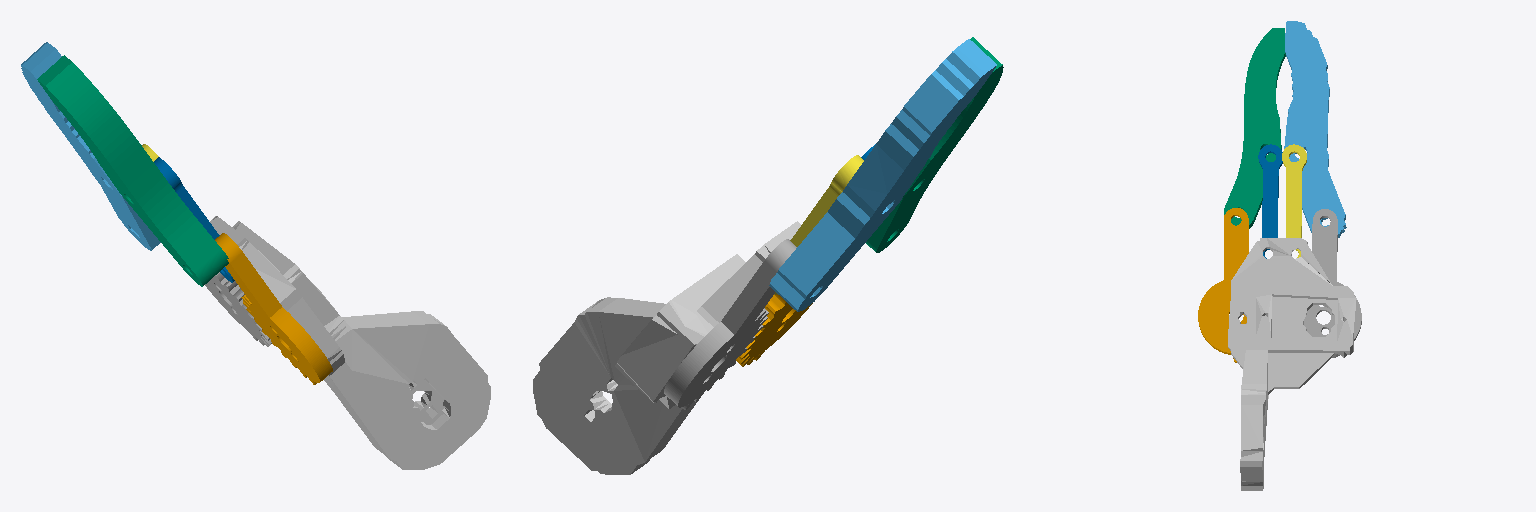
--- Render facts (derived) ---
The picture shows the robot from 3 angles, left to right: view 1: azimuth 30°, elevation 25°; view 2: azimuth 150°, elevation 25°; view 3: azimuth 270°, elevation 25°; orthographic projection.
Robot: tangs — 13 links, 12 joints (11 revolute, 1 fixed); root link world; default pose: every joint at zero.
Visible links, largest first — view 1: palm_link, r_finger_link, r_moment_arm_link, l_finger_link, l_moment_arm_link, r_truss_arm_link; view 2: palm_link, l_finger_link, l_moment_arm_link, r_finger_link, r_moment_arm_link, l_truss_arm_link; view 3: palm_link, l_finger_link, r_finger_link, r_moment_arm_link, l_moment_arm_link, l_truss_arm_link, r_truss_arm_link.
Link boxes in pixels (<box>): palm_link: <box>210,216,490,469</box>; r_finger_link: <box>37,55,228,286</box>; r_moment_arm_link: <box>215,233,332,384</box>; l_finger_link: <box>21,42,160,250</box>; l_moment_arm_link: <box>205,272,271,346</box>; r_truss_arm_link: <box>154,157,234,282</box>; palm_link: <box>533,221,800,474</box>; l_finger_link: <box>769,39,996,311</box>; l_moment_arm_link: <box>664,239,796,409</box>; r_finger_link: <box>866,37,1003,252</box>; r_moment_arm_link: <box>736,294,812,366</box>; l_truss_arm_link: <box>775,155,863,294</box>; palm_link: <box>1228,238,1356,490</box>; l_finger_link: <box>1284,21,1346,237</box>; r_finger_link: <box>1224,28,1285,228</box>; r_moment_arm_link: <box>1198,208,1248,362</box>; l_moment_arm_link: <box>1304,209,1361,340</box>; l_truss_arm_link: <box>1282,144,1306,257</box>; r_truss_arm_link: <box>1258,144,1282,258</box>.
Size in the robot's own frame: 0.1138 by 0.0521 by 0.1221 metres.
Meshes: 11 distinct files referenced, 7 mesh visuals loaded (6 binary STL); not drawn: 5 (reference not matched to a file when rendering).

URDF robot description (tangs):
<?xml version="1.0" encoding="utf-8" ?>
<!-- <include file="$(find tangs_description)/urdf/tangs.gazebo"/> -->
<!-- Solução para o problema do braço ficar tremendo no início -->
<!-- https://robotics.stackexchange.com/questions/58995/manipulator-shakes-wobbles/58996#58996 -->
<robot name="tangs">
    <link name="world" />
    <joint name="base_joint" type="fixed">
        <parent link="world" />
        <child link="link_base" />
        <origin rpy="0 0 0" xyz="0.0 0 0.0" />
    </joint>
    <link name="link_base">
        <visual>
            <origin rpy="0 0 0" xyz="0 0 0" />
            <geometry>
                <mesh filename="package://tangs_description/models/thangs3/link_base.stl" />
            </geometry>
            <material name="Gazebo/Grey" />
        </visual>
        <inertial>
            <origin rpy="0 0 0" xyz="0 0 -0.30" />
            <mass value="0.620" />
            <inertia ixx="0.010581333333333333" ixy="0" ixz="0" iyy="0.010581333333333333" iyz="0" izz="0.010581333333333333" />
        </inertial>
        <collision>
            <origin rpy="0 0 0" xyz="0 0 0.03" />
            <geometry>
                <!-- <mesh filename="package://tangs_description/models/thangs3/link_base.stl"/> -->
                <box size="0.12 0.12 0.06" />
            </geometry>
        </collision>
    </link>
    <link name="link_body">
        <visual>
            <origin rpy="0 0 0" xyz="0 0 0" />
            <geometry>
                <mesh filename="package://tangs_description/models/thangs3/link_body.stl" />
            </geometry>
            <material name="Gazebo/Grey" />
        </visual>
        <collision>
            <origin rpy="0 0 0" xyz="0 0 0" />
            <geometry>
                <!-- <cylinder radius="0.050" length="0.067" /> -->
                <mesh filename="package://tangs_description/models/thangs3/link_body.stl" />
            </geometry>
        </collision>
        <inertial>
            <origin rpy="0 0 0" xyz="-6.44e-03 1.36e-03 1.73e-02" />
            <mass value="8.50e-02" />
            <inertia ixx="0.002" ixy="0.0" ixz="0.0" iyy="0.02" iyz="0.0" izz="0.002" />
        </inertial>
    </link>
    <joint name="waist" type="revolute">
        <origin rpy="0 0 1.55" xyz="0 0 5.60e-02" />
        <parent link="link_base" />
        <child link="link_body" />
        <axis xyz="0 0 1" />
        <limit effort="300" lower="-1.570796327" upper="1.570796327" velocity="3" />
        <joint_properties friction="0.0" />
    </joint>
    <transmission name="tran1">
        <type>transmission_interface/SimpleTransmission</type>
        <joint name="waist">
            <hardwareInterface>hardware_interface/PositionJointInterface</hardwareInterface>
        </joint>
        <actuator name="motor1">
            <hardwareInterface>hardware_interface/PositionJointInterface</hardwareInterface>
            <mechanicalReduction>1</mechanicalReduction>
        </actuator>
    </transmission>
    <link name="link_arm">
        <visual>
            <origin rpy="3.141592654 0 -1.570796327" xyz="-5.77e-02 6.02e-04 0" />
            <geometry>
                <mesh filename="package://tangs_description/models/thangs3/link_arm.stl" />
            </geometry>
            <material name="Gazebo/Grey" />
        </visual>
        <collision>
            <origin rpy="3.141592654 0 -1.570796327" xyz="-5.77e-02 6.02e-04 0" />
            <geometry>
                <mesh filename="package://tangs_description/models/thangs3/link_arm.stl" />
            </geometry>
        </collision>
        <inertial>
            <origin rpy="0 0 0" xyz="-5.92e-02 0 -7.79e-03" />
            <mass value="8.50e-03" />
            <inertia ixx="0.002" ixy="0.0" ixz="0.0" iyy="0.02" iyz="0.0" izz="0.002" />
        </inertial>
    </link>
    <joint name="shoulder" type="revolute">
        <origin rpy="1.570796327 1.570796327 -1.570796327" xyz="-4.00e-03 1.40e-02 4.03e-02" />
        <parent link="link_body" />
        <child link="link_arm" />
        <axis xyz="0 0 1" />
        <limit effort="200" lower="-1.570796327" upper="1.570796327" velocity="3" />
        <joint_properties friction="0.0" />
    </joint>
    <transmission name="tran2">
        <type>transmission_interface/SimpleTransmission</type>
        <joint name="shoulder">
            <hardwareInterface>hardware_interface/PositionJointInterface</hardwareInterface>
        </joint>
        <actuator name="motor2">
            <hardwareInterface>hardware_interface/PositionJointInterface</hardwareInterface>
            <mechanicalReduction>1</mechanicalReduction>
        </actuator>
    </transmission>
    <link name="link_forearm">
        <visual>
            <origin rpy="-3.141592654 0 0" xyz="0 -3.22e-02 6.00e-03" />
            <geometry>
                <mesh filename="package://tangs_description/models/thangs3/link_forearm.stl" />
            </geometry>
            <material name="Gazebo/Grey" />
        </visual>
        <collision>
            <origin rpy="-3.141592654 0 0" xyz="0 -3.22e-02 6.00e-03" />
            <geometry>
                <mesh filename="package://tangs_description/models/thangs3/link_forearm.stl" />
            </geometry>
        </collision>
        <inertial>
            <origin rpy="0 0 0" xyz="0 -3.93e-02 -7.40e-03" />
            <mass value="5.28e-03" />
            <inertia ixx="0.002" ixy="0.0" ixz="0.0" iyy="0.02" iyz="0.0" izz="0.002" />
        </inertial>
    </link>
    <joint name="elbow" type="revolute">
        <origin rpy="3.141592654 0 6.09e-01" xyz="-1.20e-01 0 0" />
        <parent link="link_arm" />
        <child link="link_forearm" />
        <axis xyz="0 0 1" />
        <limit effort="200" lower="-2.5" upper="0.6" velocity="3" />
        <joint_properties friction="0.0" />
    </joint>
    <transmission name="tran3">
        <type>transmission_interface/SimpleTransmission</type>
        <joint name="elbow">
            <hardwareInterface>hardware_interface/PositionJointInterface</hardwareInterface>
        </joint>
        <actuator name="motor3">
            <hardwareInterface>hardware_interface/PositionJointInterface</hardwareInterface>
            <mechanicalReduction>1</mechanicalReduction>
        </actuator>
    </transmission>
    <link name="link_hand">
        <visual>
            <origin rpy="-1.570796327 0 0" xyz="4.99e-03 -1.40e-02 -2.30e-02" />
            <geometry>
                <mesh filename="package://tangs_description/models/thangs3/link_hand.stl" />
            </geometry>
            <material name="Gazebo/Grey" />
        </visual>
        <collision>
            <origin rpy="-1.570796327 0 0" xyz="4.99e-03 -1.40e-02 -2.30e-02" />
            <geometry>
                <mesh filename="package://tangs_description/models/thangs3/link_hand.stl" />
            </geometry>
        </collision>
        <inertial>
            <origin rpy="0 0 0" xyz="5.03e-03 -6.14e-03 -1.77e-02" />
            <mass value="1.83e-03" />
            <inertia ixx="0.002" ixy="0.0" ixz="0.0" iyy="0.02" iyz="0.0" izz="0.002" />
        </inertial>
    </link>
    <joint name="wrist_yaw" type="revolute">
        <origin rpy="-1.570796327 0 0" xyz="-5.31e-03 -8.97e-02 -7.51e-03" />
        <parent link="link_forearm" />
        <child link="link_hand" />
        <axis xyz="0 0 1" />
        <limit effort="200" lower="-1.570796327" upper="1.570796327" velocity="3" />
        <joint_properties friction="0.0" />
    </joint>
    <transmission name="tran4">
        <type>transmission_interface/SimpleTransmission</type>
        <joint name="wrist_yaw">
            <hardwareInterface>hardware_interface/PositionJointInterface</hardwareInterface>
        </joint>
        <actuator name="motor4">
            <hardwareInterface>hardware_interface/PositionJointInterface</hardwareInterface>
            <mechanicalReduction>1</mechanicalReduction>
        </actuator>
    </transmission>
    <link name="palm_link">
        <collision>
            <origin rpy="3.141592654 -3.141592654 0.0" xyz="0.015 0.015 -0.018" />
            <geometry>
                <!-- <mesh filename="package://gripper_description/meshes/collision/RG3_Palm_col.stl"/> -->
                <mesh filename="package://gripper_description/meshes/visual/RG3_gripper_base_m_tk2.stl" />
            </geometry>
        </collision>
        <visual>
            <!-- <origin xyz="0.00 0.0015 -0.014" rpy="0.00 0.00 0.00"/> -->
            <origin rpy="3.141592654 -3.141592654 0.0" xyz="0.015 0.015 -0.018" />
            <geometry>
                <mesh filename="package://gripper_description/meshes/visual/RG3_gripper_base_m_tk2.stl" />
            </geometry>
            <material name="Gazebo/Grey" />
        </visual>
        <inertial>
            <origin rpy="0.00 0.00 0.00" xyz="-0.061902 0.000129 -0.000005" />
            <mass value="0.02" />
            <inertia ixx="0.002" ixy="0.0" ixz="0.0" iyy="0.02" iyz="0.0" izz="0.002" />
            <!-- <inertia ixx="0.000862" ixy="0.000000" ixz="0.000000"
                     iyy="0.002401" iyz="-0.000001"
                     izz="0.002620" /> -->
        </inertial>
    </link>
    <joint name="wrist_pitch" type="revolute">
        <origin rpy="0 -3.81e-02 0" xyz="0.00 -1.40e-02 -2.80e-02" />
        <parent link="link_hand" />
        <child link="palm_link" />
        <!-- Nome do link inicial do gripper-->
        <axis xyz="0 1 0" />
        <limit effort="200" lower="-3.141592654" upper="0" velocity="3" />
        <joint_properties friction="0.0" />
    </joint>
    <transmission name="tran5">
        <type>transmission_interface/SimpleTransmission</type>
        <joint name="wrist_pitch">
            <hardwareInterface>hardware_interface/PositionJointInterface</hardwareInterface>
        </joint>
        <actuator name="wrist_pitch_motor">
            <hardwareInterface>hardware_interface/PositionJointInterface</hardwareInterface>
            <mechanicalReduction>1</mechanicalReduction>
        </actuator>
    </transmission>
    <link name="l_moment_arm_link">
        <collision>
            <origin rpy="0.00 0.00 3.01415" xyz="0.01 -0.0021 0.0005" />
            <geometry>
                <!-- <mesh filename="package://gripper_description/meshes/collision/RG3_GearLeft_col.stl"/> -->
                <mesh filename="package://gripper_description/meshes/visual/RG3_gear_left_m.stl" />
            </geometry>
        </collision>
        <visual>
            <origin rpy="0.00 0.00 3.01415" xyz="0.01 -0.0021 0.0005" />
            <geometry>
                <mesh filename="package://gripper_description/meshes/visual/RG3_gear_left_m.stl" />
            </geometry>
        </visual>
        <inertial>
            <origin rpy="0.00 0.00 0.00" xyz="0.017004 0.006397 -0.010300" />
            <mass value="0.0060209" />
            <inertia ixx="0.002" ixy="0.0" ixz="0.0" iyy="0.02" iyz="0.0" izz="0.002" />
        </inertial>
    </link>
    <joint name="gripper_joint" type="revolute">
        <parent link="palm_link" />
        <child link="l_moment_arm_link" />
        <origin rpy="0 0 3.141592654" xyz="-0.042 -0.005 0.012" />
        <axis xyz="0 0 1" />
        <limit effort="200" lower="0" upper="1.570796327" velocity="3" />
        <dynamics damping="0.3" friction="0.0" />
        <implicitSpringDamper>True</implicitSpringDamper>
    </joint>
    <transmission name="gripper_joint_tran">
        <type>transmission_interface/SimpleTransmission</type>
        <joint name="gripper_joint">
            <hardwareInterface>hardware_interface/PositionJointInterface</hardwareInterface>
        </joint>
        <actuator name="gripper_joint_motor">
            <hardwareInterface>hardware_interface/PositionJointInterface</hardwareInterface>
            <mechanicalReduction>1</mechanicalReduction>
        </actuator>
    </transmission>
    <link name="r_moment_arm_link">
        <collision>
            <origin rpy="0.00 0.00 3.000415" xyz="0.01 -0.0111 0.0005" />
            <geometry>
                <mesh filename="package://gripper_description/meshes/visual/RG3_gear_right_m.stl" />
            </geometry>
        </collision>
        <visual>
            <origin rpy="0.00 0.00 3.000415" xyz="0.01 -0.0111 0.0005" />
            <geometry>
                <mesh filename="package://gripper_description/meshes/visual/RG3_gear_right_m.stl" />
            </geometry>
        </visual>
        <inertial>
            <origin rpy="0.00 0.00 0.00" xyz="0.017004 -0.006397 -0.010300" />
            <mass value="0.0060209" />
            <inertia ixx="0.002" ixy="0.0" ixz="0.0" iyy="0.02" iyz="0.0" izz="0.002" />
        </inertial>
    </link>
    <joint name="r_finger_1_joint" type="revolute">
        <parent link="palm_link" />
        <child link="r_moment_arm_link" />
        <origin rpy="0 0 3.141592654" xyz="-0.042 0.022 0.008" />
        <axis xyz="0 0 1" />
        <limit effort="10.6" lower="-1.570796327" upper="1.570796327" velocity="3.14" />
        <mimic joint="gripper_joint" multiplier="-1" />
        <dynamics damping="0.3" friction="0.0" />
        <implicitSpringDamper>True</implicitSpringDamper>
    </joint>
    
    <link name="l_finger_link">
        <collision>
            <origin rpy="0.00 0.00 -0.38" xyz="0.030 -0.005 0.0045" />
            <geometry>
                <!-- <mesh filename="package://gripper_description/meshes/collision/RG3_griplink_left_col.stl"/> -->
                <mesh filename="package://gripper_description/meshes/visual/RG3_grip_finger_left_m.stl" />
            </geometry>
        </collision>
        <visual>
            <origin rpy="0.00 0.00 -0.38" xyz="0.030 -0.005 0.0045" />
            <geometry>
                <mesh filename="package://gripper_description/meshes/visual/RG3_grip_finger_left_m.stl" />
            </geometry>
        </visual>
        <inertial>
            <origin rpy="0.00 0.00 0.00" xyz="0.024695 -0.010178 -0.010001" />
            <mass value="0.0081638" />
            <inertia ixx="0.002" ixy="0.0" ixz="0.0" iyy="0.02" iyz="0.0" izz="0.002" />
        </inertial>
    </link>
    <joint name="l_finger_2_joint" type="revolute">
        <parent link="l_moment_arm_link" />
        <child link="l_finger_link" />
        <origin rpy="0 0 0" xyz="0.0315 0.0008 0.000" />
        <axis xyz="0 0 1" />
        <limit effort="10.6" lower="-1.570796327" upper="1.570796327" velocity="3" />
        <mimic joint="gripper_joint" multiplier="-1" />
        <dynamics damping="0.3" friction="0.0" />
        <implicitSpringDamper>True</implicitSpringDamper>
    </joint>
    <transmission name="l_finger_2_joint_tran">
        <type>transmission_interface/SimpleTransmission</type>
        <joint name="l_finger_2_joint">
            <hardwareInterface>hardware_interface/PositionJointInterface</hardwareInterface>
        </joint>
        <actuator name="l_finger_2_joint_motor">
            <hardwareInterface>hardware_interface/PositionJointInterface</hardwareInterface>
            <mechanicalReduction>1</mechanicalReduction>
        </actuator>
    </transmission>
    <link name="r_finger_link">
        <collision>
            <origin rpy="0.00 3.1415 0.38" xyz="0.022 0.026 0.020" />
            <geometry>
                <mesh filename="package://gripper_description/meshes/visual/gear_right3.stl" />
            </geometry>
        </collision>
        <visual>
            <origin rpy="0.00 3.1415 0.38" xyz="0.022 0.026 0.020" />
            <geometry>
                <mesh filename="package://gripper_description/meshes/visual/gear_right3.stl" />
            </geometry>
        </visual>
        <inertial>
            <origin rpy="0.00 0.00 0.00" xyz="0.024695 0.010178 -0.010000" />
            <mass value="0.0081637" />
            <inertia ixx="0.002" ixy="0.0" ixz="0.0" iyy="0.02" iyz="0.0" izz="0.002" />
        </inertial>
    </link>
    <joint name="r_finger_2_joint" type="revolute">
        <parent link="r_moment_arm_link" />
        <child link="r_finger_link" />
        <origin rpy="0 0 0" xyz="0.032 -0.0015 0.005" />
        <axis xyz="0 0 1" />
        <limit effort="10.6" lower="-1.570796327" upper="1.570796327" velocity="3.0" />
        <mimic joint="gripper_joint" multiplier="1" />
        <dynamics damping="0.3" friction="0.0" />   
    </joint>

    <link name="l_truss_arm_link">
        <collision>
            <origin rpy="0.00 0.00 0" xyz="0.016 0.00 0.00" />
            <geometry>
                <!-- <mesh filename="package://gripper_description/meshes/collision/RG3_griplink_left_col.stl"/> -->
                <mesh filename="package://gripper_description/meshes/visual/RG3_grip_link_left_m.stl" />
            </geometry>
        </collision>
        <visual>
            <origin rpy="0.00 0.00 0" xyz="0.016 0.00 0.00" />
            <geometry>
                <mesh filename="package://gripper_description/meshes/visual/RG3_grip_link_left_m.stl" />
            </geometry>
        </visual>
        <inertial>
            <origin rpy="0.00 0.00 0.00" xyz="0.023075 0.012136 -0.010000" />
            <mass value="0.0065927" />
            <inertia ixx="0.002" ixy="0.0" ixz="0.0" iyy="0.02" iyz="0.0" izz="0.002" />
        </inertial>
    </link>
    <joint name="l_finger_passive_joint" type="revolute">
        <parent link="palm_link" />
        <child link="l_truss_arm_link" />
        <origin rpy="0 0 3.141592654" xyz="-0.062 0.0045 0.012" />
        <axis xyz="0 0 1" />
        <limit effort="10.6" lower="-1.570796327" upper="1.570796327" velocity="3.14" />
        <mimic joint="gripper_joint" multiplier="1" />
        <dynamics damping="0.3" friction="0.0" /> 
    </joint>
    
    <link name="r_truss_arm_link">
        <collision>
            <origin rpy="0.0 0.0 0.0" xyz="0.016 -0.000 0.0045" />
            <geometry>
                <mesh filename="package://gripper_description/meshes/visual/RG3_grip_link_left_m.stl" />
            </geometry>
        </collision>
        <visual>
            <origin rpy="0.00 0.00 0.0" xyz="0.016 -0.000 0.0045" />
            <geometry>
                <mesh filename="package://gripper_description/meshes/visual/RG3_grip_link_left_m.stl" />
            </geometry>
        </visual>
        <inertial>
            <origin rpy="0.00 0.00 0.00" xyz="0.023075 -0.012136 -0.010000" />
            <mass value="0.0065927" />
            <inertia ixx="0.002" ixy="0.0" ixz="0.0" iyy="0.02" iyz="0.0" izz="0.002" />
        </inertial>
    </link>
    <joint name="r_finger_passive_joint" type="revolute">
        <parent link="palm_link" />
        <child link="r_truss_arm_link" />
        <origin rpy="0 0 3.141592654" xyz="-0.062 0.012 0.008" />
        <axis xyz="0 0 1" />
        <limit effort="10.6" lower="-1.570796327" upper="1.570796327" velocity="3.14" />
        <mimic joint="gripper_joint" multiplier="-1" />
        <dynamics damping="0.3" friction="0.0" />   
    </joint>
    
    <!-- Gazebo control plugins -->
    <gazebo>
        <plugin filename="libgazebo_ros_control.so" name="gazebo_ros_control">
            <robotNamespace>/</robotNamespace>
            <robotSimType>gazebo_ros_control/DefaultRobotHWSim</robotSimType>
        </plugin>
    </gazebo>
    <gazebo>
        <plugin filename="libroboticsgroup_gazebo_mimic_joint_plugin.so" name="r_finger_1_jointmimic_joint_plugin">
            <joint>gripper_joint</joint>
            <mimicJoint>r_finger_1_joint</mimicJoint>
            <multiplier>-1.0</multiplier>
            <offset>0</offset>
            <has_pid>false</has_pid>
            <sensitiveness>0.0</sensitiveness>
            <maxEffort>10.6</maxEffort>
        </plugin>
    </gazebo>
    <gazebo>
        <plugin filename="libroboticsgroup_gazebo_mimic_joint_plugin.so" name="l_finger_2_jointmimic_joint_plugin">
            <joint>gripper_joint</joint>
            <mimicJoint>l_finger_2_joint</mimicJoint>
            <multiplier>-1.0</multiplier>
            <offset>0</offset>
            <has_pid>false</has_pid>
            <sensitiveness>0.0</sensitiveness>
            <maxEffort>10.6</maxEffort>
        </plugin>
    </gazebo>
    <gazebo>
        <plugin filename="libroboticsgroup_gazebo_mimic_joint_plugin.so" name="r_finger_2_jointmimic_joint_plugin">
            <joint>gripper_joint</joint>
            <mimicJoint>r_finger_2_joint</mimicJoint>
            <multiplier>1.0</multiplier>
            <offset>0</offset>
            <sensitiveness>0.0</sensitiveness>
            <has_pid>false</has_pid>
            <maxEffort>10.6</maxEffort>
        </plugin>
    </gazebo>
    <gazebo>
        <plugin filename="libroboticsgroup_gazebo_mimic_joint_plugin.so" name="l_finger_passive_jointmimic_joint_plugin">
            <joint>gripper_joint</joint>
            <mimicJoint>l_finger_passive_joint</mimicJoint>
            <multiplier>1.0</multiplier>
            <offset>0</offset>
            <sensitiveness>0.0</sensitiveness>
            <has_pid>false</has_pid>
            <maxEffort>10.6</maxEffort>
        </plugin>
    </gazebo>
    <gazebo>
        <plugin filename="libroboticsgroup_gazebo_mimic_joint_plugin.so" name="r_finger_passive_jointmimic_joint_plugin">
            <joint>gripper_joint</joint>
            <mimicJoint>r_finger_passive_joint</mimicJoint>
            <multiplier>-1.0</multiplier>
            <offset>0</offset>
            <sensitiveness>0.0</sensitiveness>
            <has_pid>false</has_pid>
            <maxEffort>10.6</maxEffort>
        </plugin>
    </gazebo>
    <material name="Gazebo/Grey">
        <color rgba="0.8 0.8 0.8 1.0" />
    </material>
    <!-- Gazebo link properties -->
    <gazebo reference="link_base">
        <kp>1E12</kp>
        <kd>10</kd>
        <mu2>10.0</mu2>
        <material>Gazebo/Grey</material>
        <selfCollide>true</selfCollide>
    </gazebo>
    <gazebo reference="link_body">
        <kp>1E12</kp>
        <kd>10</kd>
        <mu1>10.0</mu1>
        <mu2>10.0</mu2>
        <material>Gazebo/Grey</material>
        <selfCollide>true</selfCollide>
    </gazebo>
    <gazebo reference="link_arm">
        <kp>1E12</kp>
        <kd>10</kd>
        <mu1>10.0</mu1>
        <mu2>10.0</mu2>
        <material>Gazebo/Grey</material>
        <selfCollide>true</selfCollide>
    </gazebo>
    <gazebo reference="link_forearm">
        <kp>1E12</kp>
        <kd>10</kd>
        <mu1>10.0</mu1>
        <mu2>10.0</mu2>
        <material>Gazebo/Grey</material>
        <selfCollide>true</selfCollide>
    </gazebo>
    <gazebo reference="hand_link">
        <mu1>0.2</mu1>
        <mu2>0.2</mu2>
        <material>Gazebo/White</material>
        <selfCollide>true</selfCollide>
    </gazebo>
    <gazebo reference="palm_link">
        <kp>1E12</kp>
        <kd>10</kd>
        <mu1>10.0</mu1>
        <mu2>10.0</mu2>
        <material>Gazebo/White</material>
        <selfCollide>false</selfCollide>
    </gazebo>
    <gazebo reference="l_moment_arm_link">
        <kp>1E12</kp>
        <kd>10</kd>
        <mu1>10</mu1>
        <mu2>10</mu2>
        <material>Gazebo/White</material>
        <selfCollide>false</selfCollide>
    </gazebo>
    <gazebo reference="r_moment_arm_link">
        <kp>1E12</kp>
        <kd>10</kd>
        <mu1>10</mu1>
        <mu2>10</mu2>
        <material>Gazebo/White</material>
        <selfCollide>false</selfCollide>
    </gazebo>
    <gazebo reference="l_finger">
        <kp>1E12</kp>
        <kd>10</kd>
        <mu1>10</mu1>
        <mu2>10</mu2>
        <material>Gazebo/White</material>
        <selfCollide>false</selfCollide>
    </gazebo>
    <gazebo reference="r_finger">
        <kp>1E12</kp>
        <kd>10</kd>
        <mu1>10</mu1>
        <mu2>10</mu2>
        <material>Gazebo/White</material>
        <selfCollide>false</selfCollide>
    </gazebo>
    <gazebo reference="l_truss_arm_link">
        <kp>1E12</kp>
        <kd>10</kd>
        <mu1>10</mu1>
        <mu2>10</mu2>
        <material>Gazebo/White</material>
        <selfCollide>false</selfCollide>
    </gazebo>
    <gazebo reference="r_truss_arm_link">
        <kp>1E12</kp>
        <kd>10</kd>
        <mu1>10</mu1>
        <mu2>10</mu2>
        <material>Gazebo/White</material>
        <selfCollide>false</selfCollide>
    </gazebo>
    

</robot>
